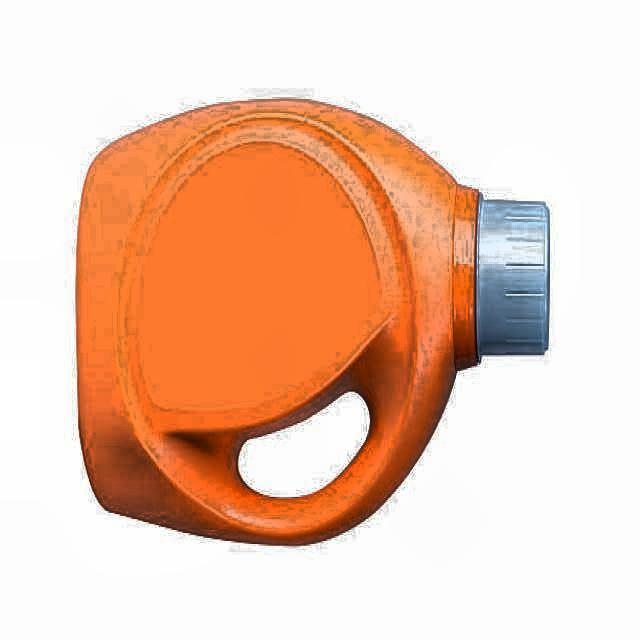plastic: (78, 100, 549, 544)
